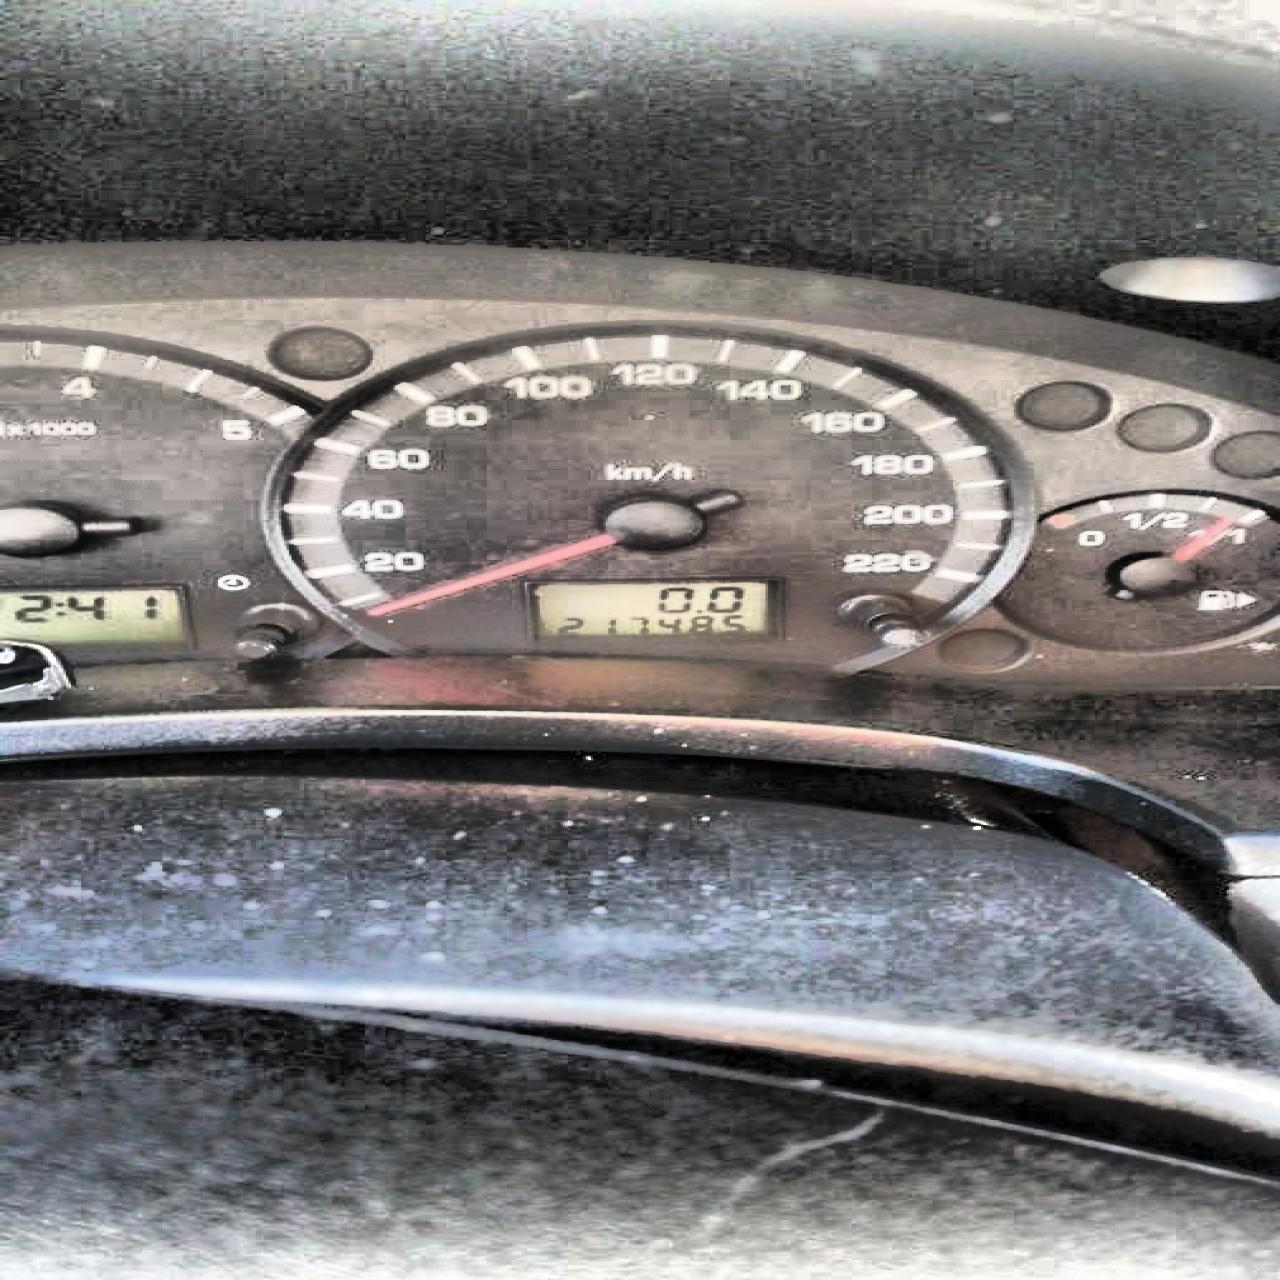-: (695, 607, 702, 613)
0: (704, 585, 741, 611), (656, 586, 692, 612)
1: (604, 618, 619, 633)
2: (558, 617, 580, 635)
4: (654, 615, 682, 634)
5: (720, 613, 742, 633)
7: (626, 615, 646, 634)
8: (687, 613, 713, 633)
odometer: (527, 580, 772, 636)
